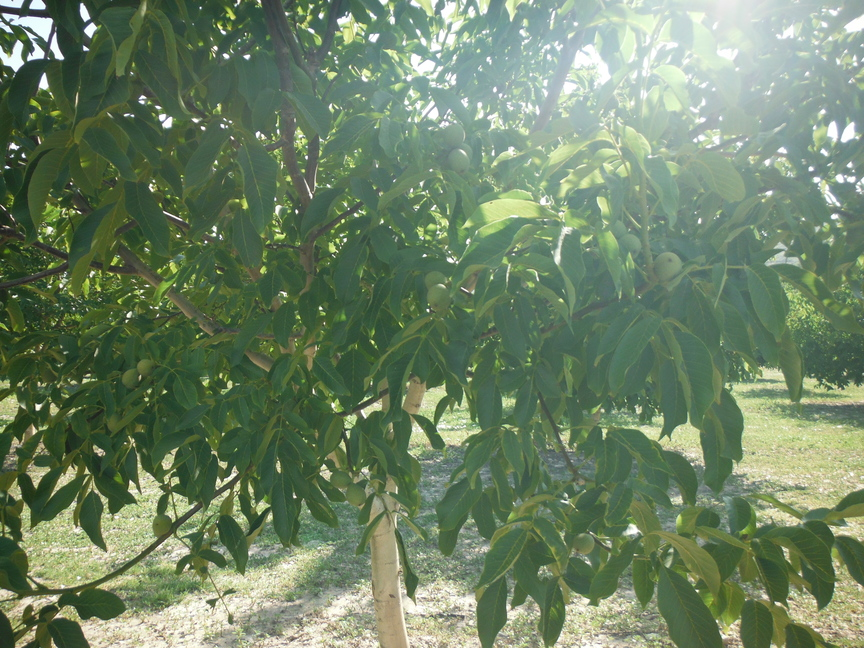walnut: (649, 247, 687, 289), (146, 511, 178, 543), (439, 117, 470, 150), (446, 146, 477, 179), (425, 282, 454, 314), (616, 230, 645, 260), (342, 479, 372, 508), (567, 530, 599, 557), (421, 268, 451, 293), (104, 409, 130, 436), (326, 467, 356, 490), (121, 364, 146, 390), (606, 215, 629, 241), (134, 354, 160, 376), (458, 139, 476, 165), (149, 186, 167, 205)
